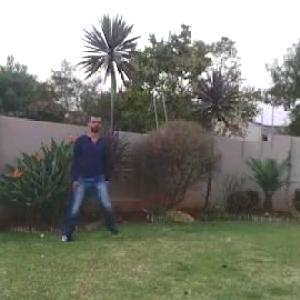follow: (71, 106, 110, 238)
